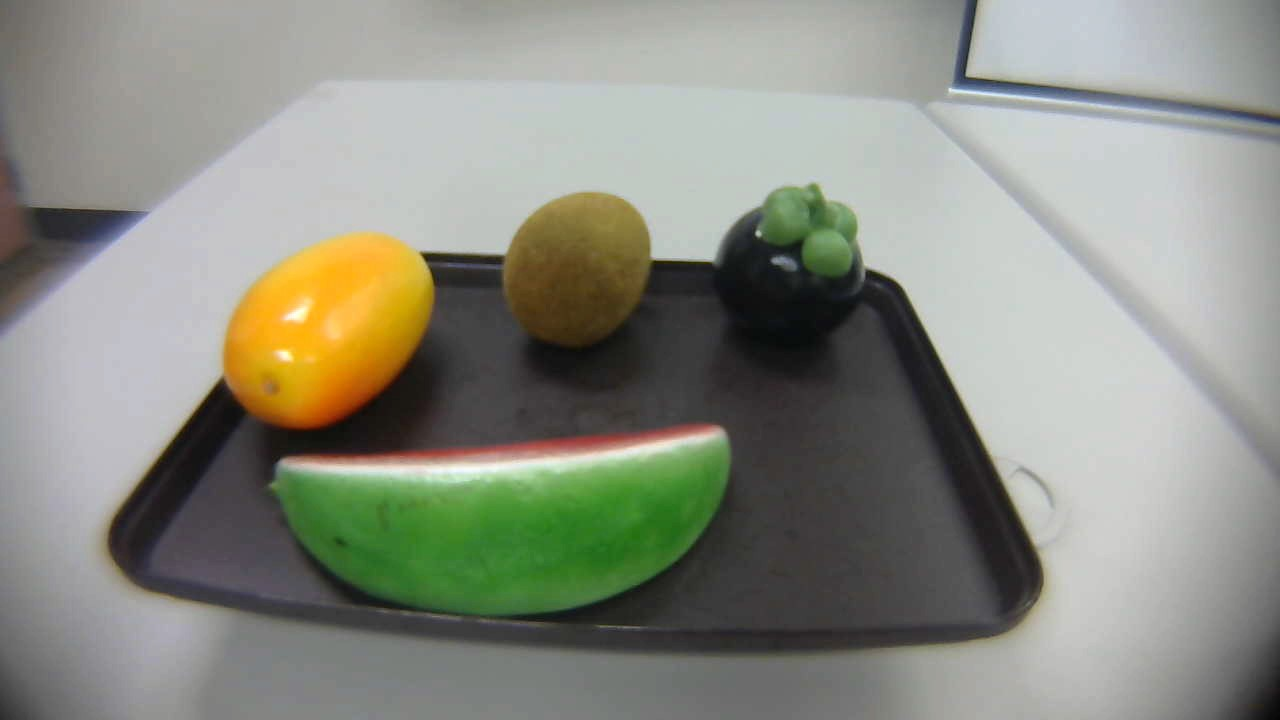kiwi fruit: (502, 191, 658, 352)
mangosteen: (704, 175, 881, 358)
water melon: (255, 424, 745, 636)
yellow mango: (223, 234, 440, 444)
